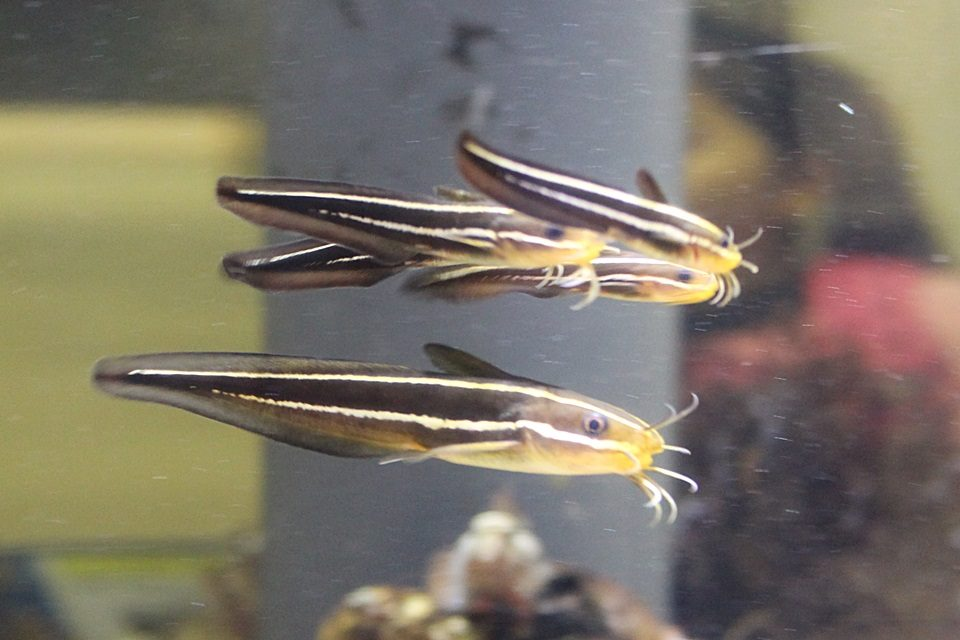gonzui: (91, 330, 733, 500)
